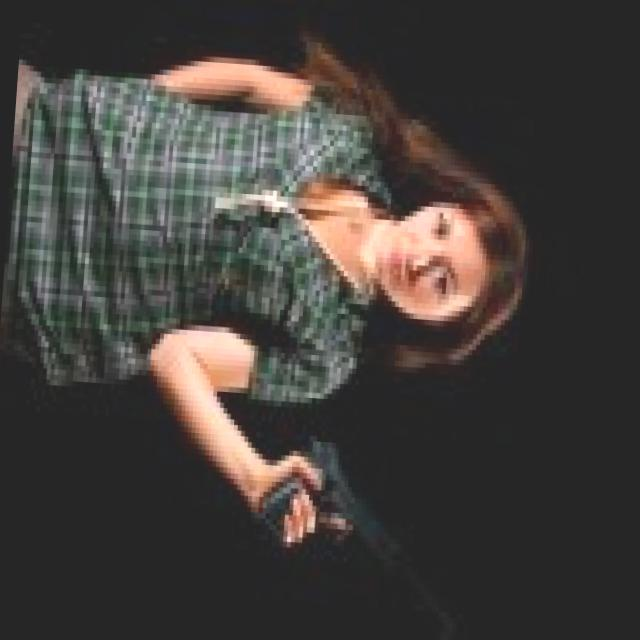handgun: (243, 409, 398, 548)
